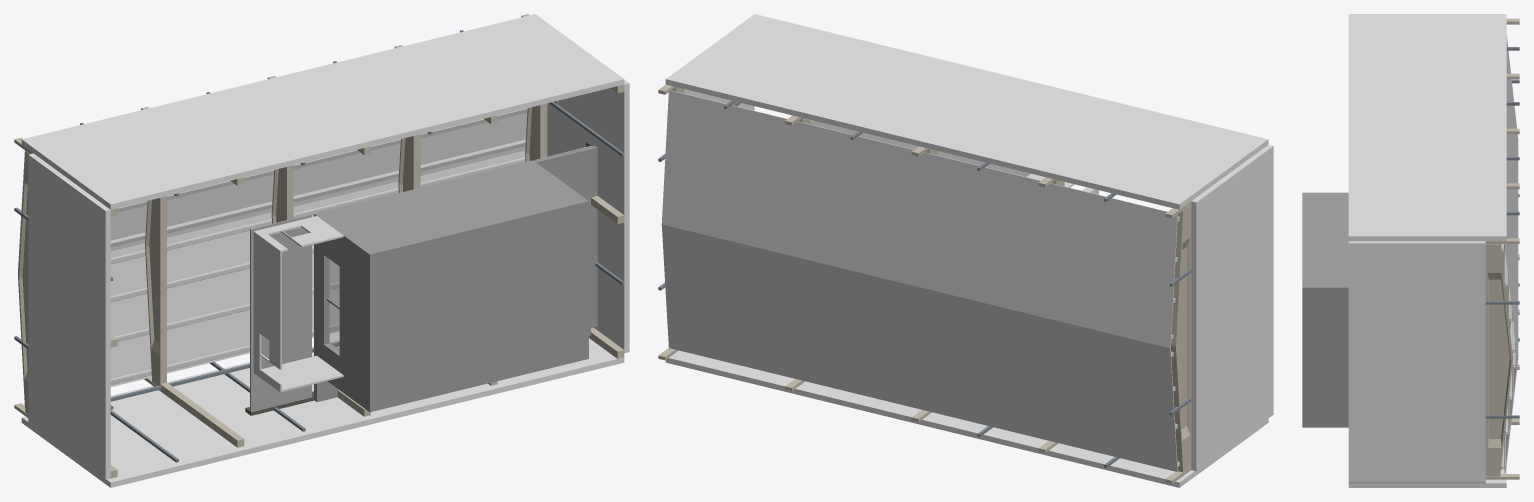
File: full_cirtesu_physics_roof.obj
The picture shows the model from 3 angles, left to right: view 1: azimuth 30°, elevation 25°; view 2: azimuth 150°, elevation 25°; view 3: azimuth 270°, elevation 25°; orthographic projection. The views are drawn at different scales.
Parts seen in each view (by area): view 1: physics2; view 2: physics2; view 3: physics2.
Part boxes in pixels (x1,y1,x2,y2): physics2: (14, 14, 629, 487); physics2: (658, 14, 1273, 487); physics2: (1302, 14, 1519, 487).
Bounding box in the file's own units: 30.6 × 15.82 × 12.4.
